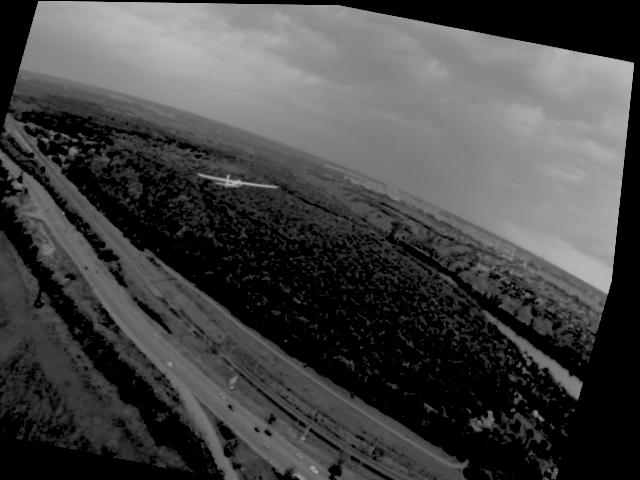hedef: (188, 160, 285, 202)
